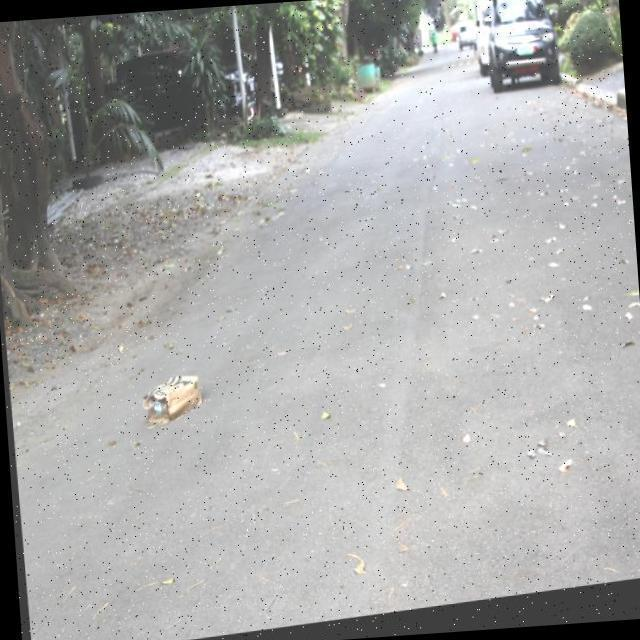Paper_Bag: (138, 374, 202, 430)
